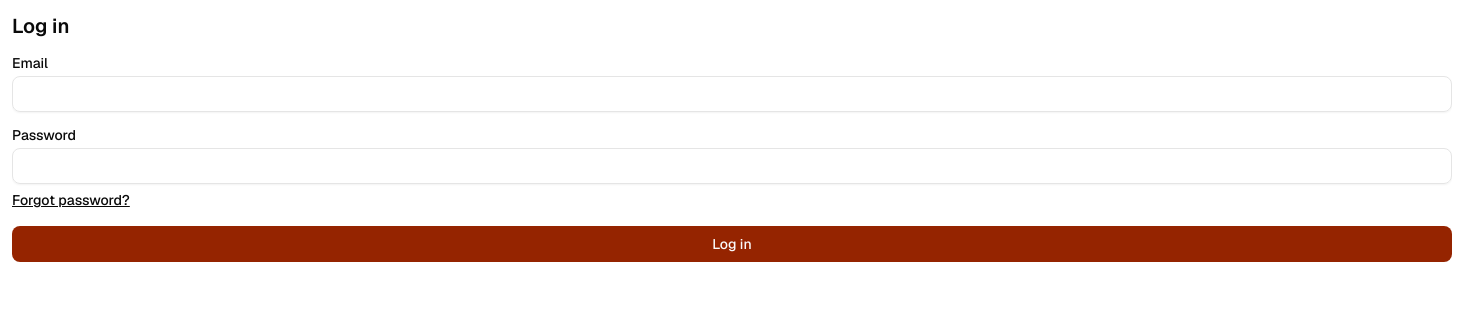
Test case: LoginForm › shows a retry-able server-error message, distinct from the invalid-credentials copy, on a genuine failure
Type "user@example.com" into the field labelled "Email" at (732, 94), box [12,76,1452,112]
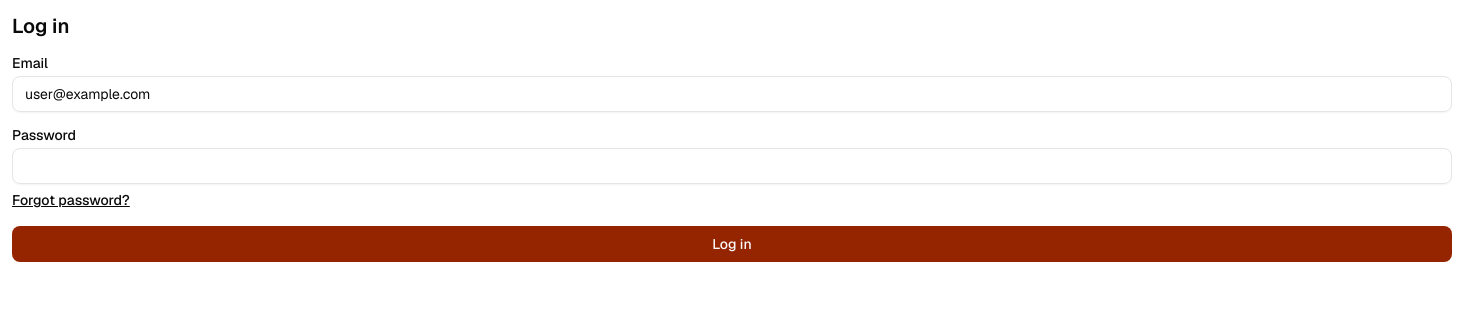
Type "abcd1234" into the password field labelled "Password" at (732, 166), box [12,148,1452,184]
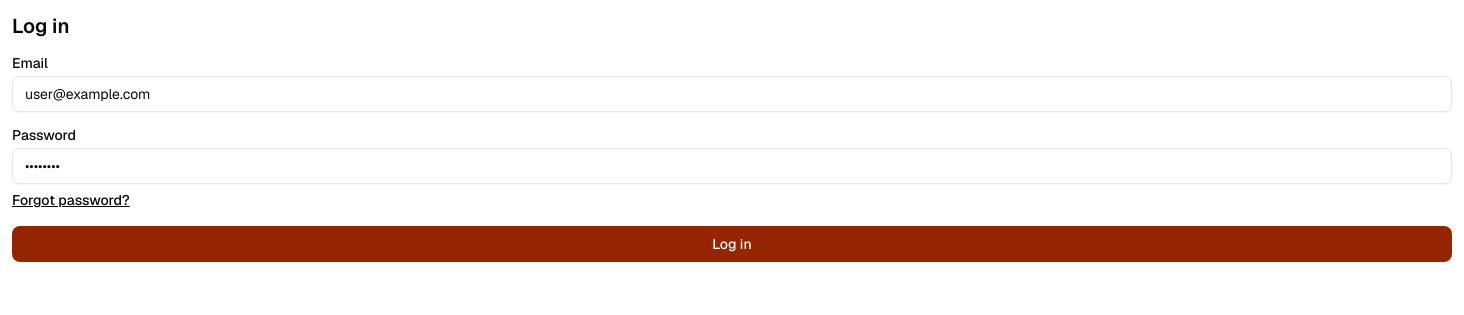
Click the button "Log in" at (732, 244), box [12,226,1452,262]
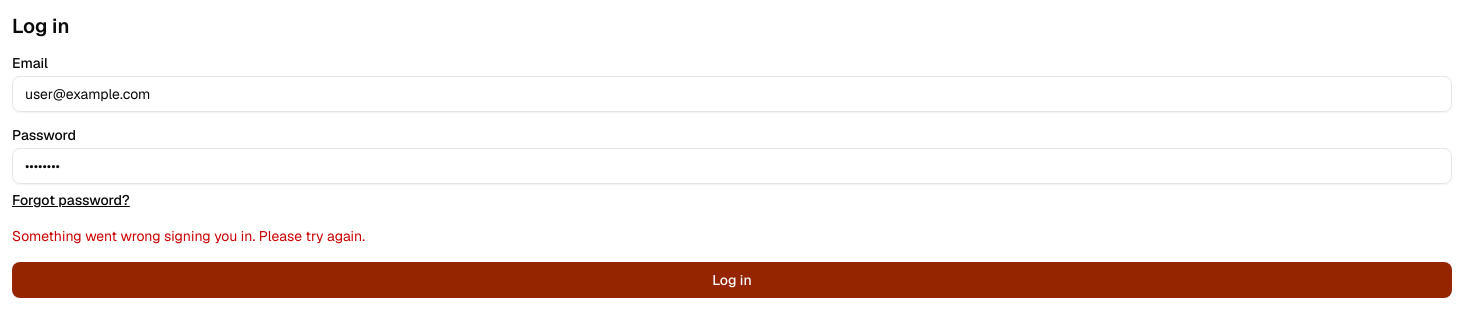
Now the message shows "went wrong signing you in", box [12,227,365,245]
